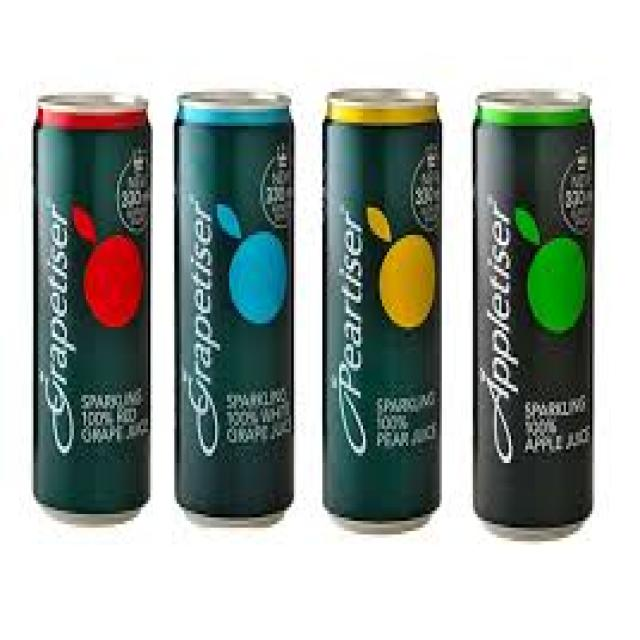Cans: (463, 75, 604, 548), (313, 78, 451, 538), (167, 78, 301, 531), (26, 85, 158, 535)
